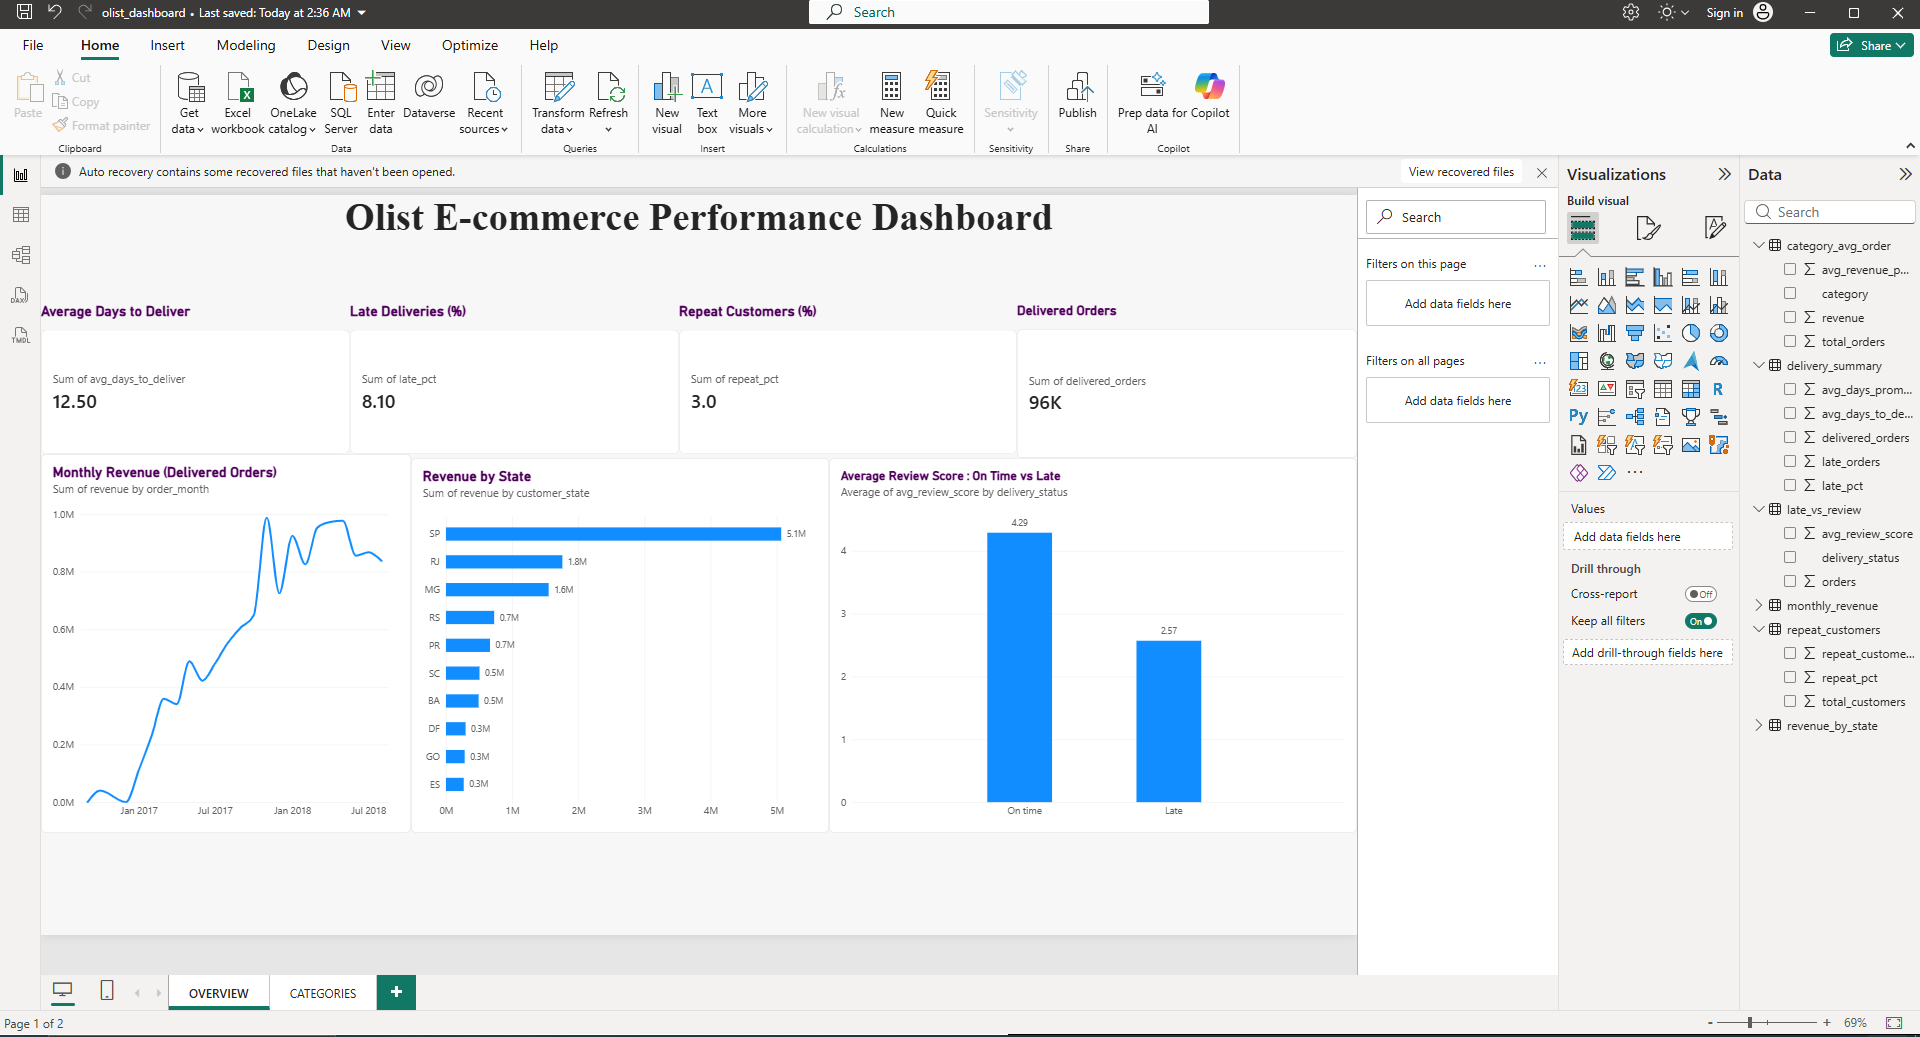

Layout of this report page (visuals, bound fields, positions):
{"tool":"powerbi","page":{"name":"Page 1","canvas":[1920,1080],"ordinal":0},"visuals":[{"type":"lineChart","title":"Monthly Revenue (Delivered Orders)","fields":{"Category":["monthly_revenue.order_month"],"Y":["Sum(monthly_revenue.revenue)"]},"box":[0,377.9,539.8,552.9],"z":0},{"type":"clusteredBarChart","title":"Revenue by State","fields":{"Category":["revenue_by_state.customer_state"],"Y":["Sum(revenue_by_state.revenue)"]},"box":[539.8,383.7,609.8,547.1],"z":1},{"type":"cardVisual","title":"Average Days to Deliver","fields":{"Data":["Sum(delivery_summary.avg_days_to_deliver)"]},"box":[0,157.6,450.8,220.3],"z":2},{"type":"cardVisual","title":"Late Deliveries (%)","fields":{"Data":["Sum(delivery_summary.late_pct)"]},"box":[450.8,157.6,480,220.3],"z":3},{"type":"cardVisual","title":"Repeat Customers (%)","fields":{"Data":["Sum(repeat_customers.repeat_pct)"]},"box":[930.8,157.6,493.1,220.3],"z":4},{"type":"cardVisual","title":"Delivered Orders","fields":{"Data":["Sum(delivery_summary.delivered_orders)"]},"box":[1424,157.6,496,226.1],"z":5},{"type":"clusteredColumnChart","title":"Average Review Score : On Time vs Late","fields":{"Category":["late_vs_review.delivery_status"],"Y":["Avg(late_vs_review.avg_review_score)"]},"box":[1149.7,383.7,770.3,547.1],"z":6},{"type":"textbox","box":[0,0,1920,157.6],"z":8}]}

Visuals, with their boxes on the page's 1920x1080 design canvas (x1, y1, x2, y2). These are canvas units, not pixel positions in the 1920x1037 screenshot, which may show the page scaled, cropped or inside an application window:
"Monthly Revenue (Delivered Orders)" lineChart: detection(0, 378, 540, 931)
"Revenue by State" clusteredBarChart: detection(540, 384, 1150, 931)
"Average Days to Deliver" cardVisual: detection(0, 158, 451, 378)
"Late Deliveries (%)" cardVisual: detection(451, 158, 931, 378)
"Repeat Customers (%)" cardVisual: detection(931, 158, 1424, 378)
"Delivered Orders" cardVisual: detection(1424, 158, 1920, 384)
"Average Review Score : On Time vs Late" clusteredColumnChart: detection(1150, 384, 1920, 931)
textbox: detection(0, 0, 1920, 158)
